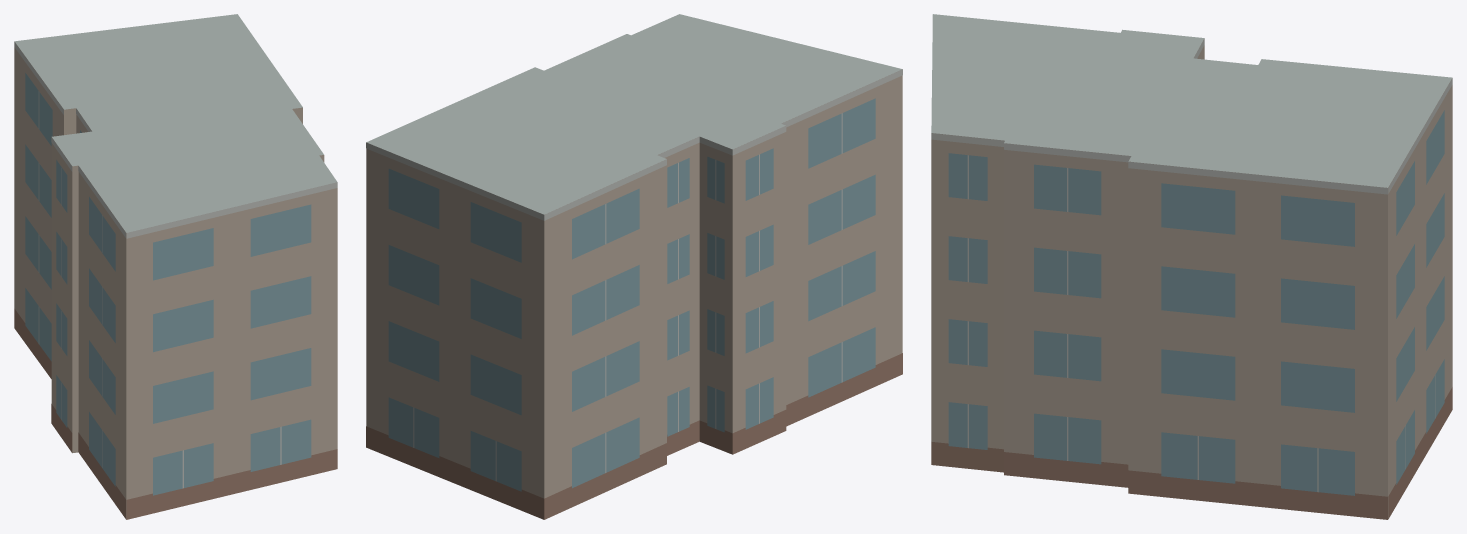
Rendered from survey-upis-32481429.glb.
The picture shows the model from 3 angles, left to right: view 1: azimuth 30°, elevation 25°; view 2: azimuth 150°, elevation 25°; view 3: azimuth 270°, elevation 25°; orthographic projection. The views are drawn at different scales.
Visible parts, largest first — view 1: survey-upis-32481429.tmp; view 2: survey-upis-32481429.tmp; view 3: survey-upis-32481429.tmp.
Boxes of the visible parts, x1,y1,x2,y2 form: survey-upis-32481429.tmp: (14, 14, 337, 519); survey-upis-32481429.tmp: (366, 14, 902, 519); survey-upis-32481429.tmp: (931, 14, 1452, 519).
Size of the model in its own units: 13.71 by 12.2 by 17.37.
